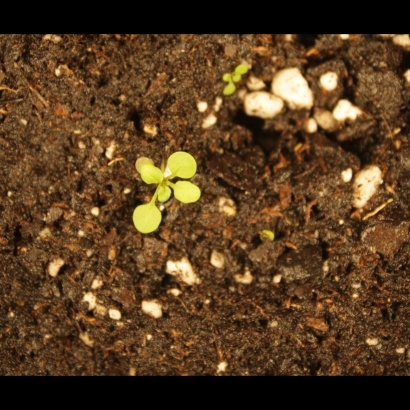leaf: (161, 144, 204, 181), (130, 200, 162, 237), (170, 181, 203, 209), (131, 159, 164, 185), (210, 58, 233, 84), (218, 84, 241, 107), (227, 49, 250, 72), (233, 72, 256, 95), (154, 184, 177, 207)
